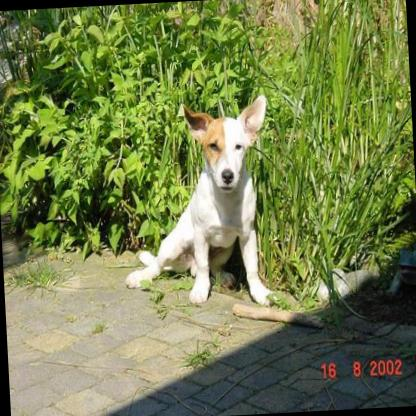dingo: (115, 92, 274, 314)
